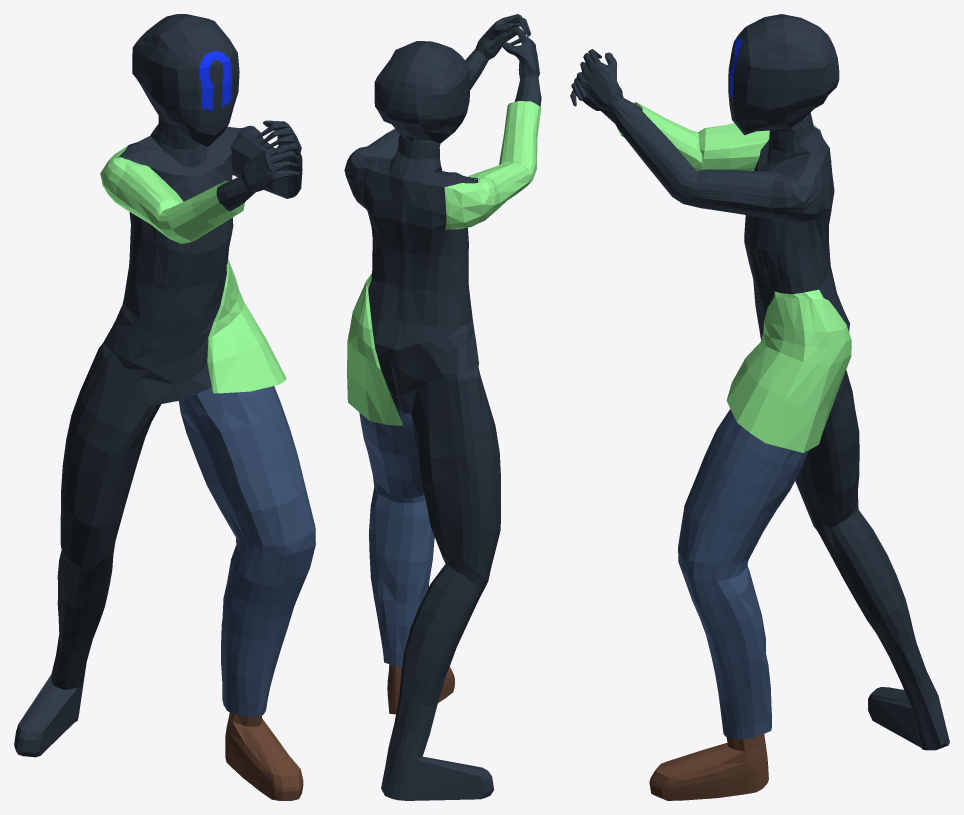
File: Mar_Attack_000006.obj
3 renders of one model, left to right at view 1: azimuth 30°, elevation 25°; view 2: azimuth 150°, elevation 25°; view 3: azimuth 270°, elevation 25°, orthographic. The views are drawn at different scales.
Visible parts, largest first — view 1: Cube.000_Cube.001; view 2: Cube.000_Cube.001; view 3: Cube.000_Cube.001.
Boxes of the visible parts, x1,y1,x2,y2 form: Cube.000_Cube.001: [14, 14, 315, 800]; Cube.000_Cube.001: [344, 14, 541, 800]; Cube.000_Cube.001: [570, 14, 949, 800].
Size of the model in its own units: 1.14 by 3.82 by 1.74.
